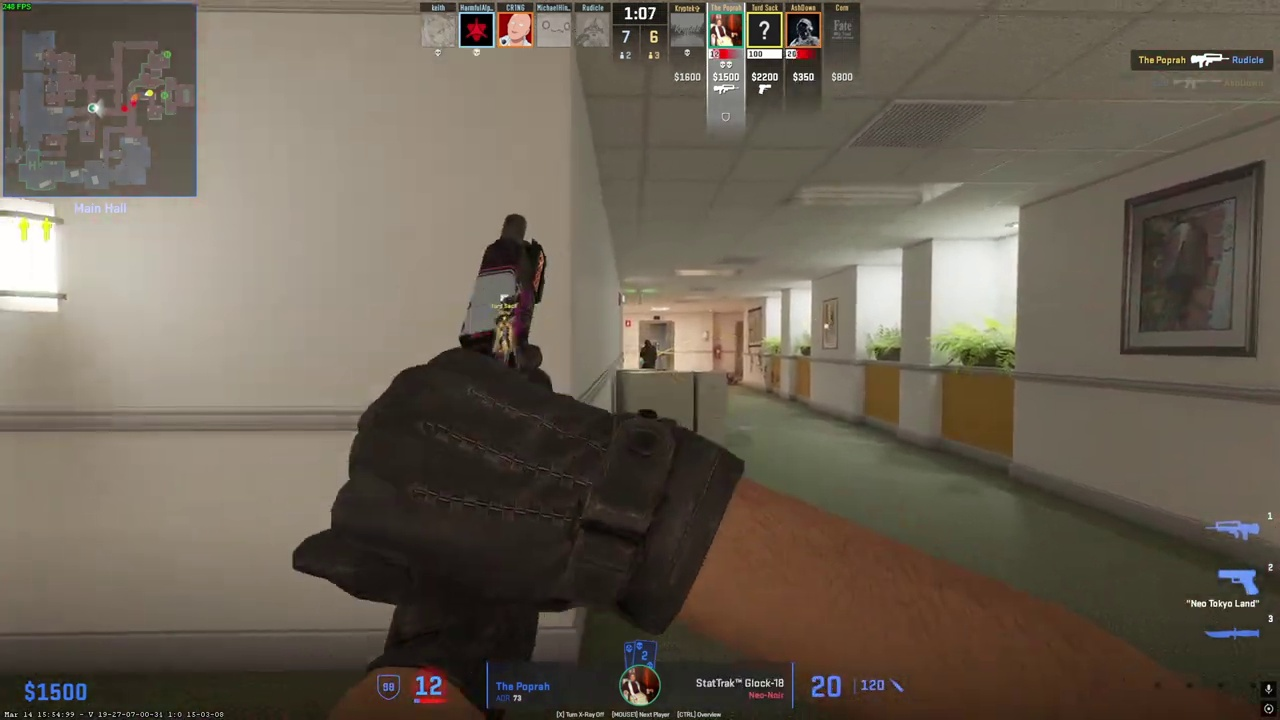CT: (640, 340, 657, 369)
